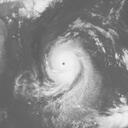cyclone: (42, 37, 87, 86)
